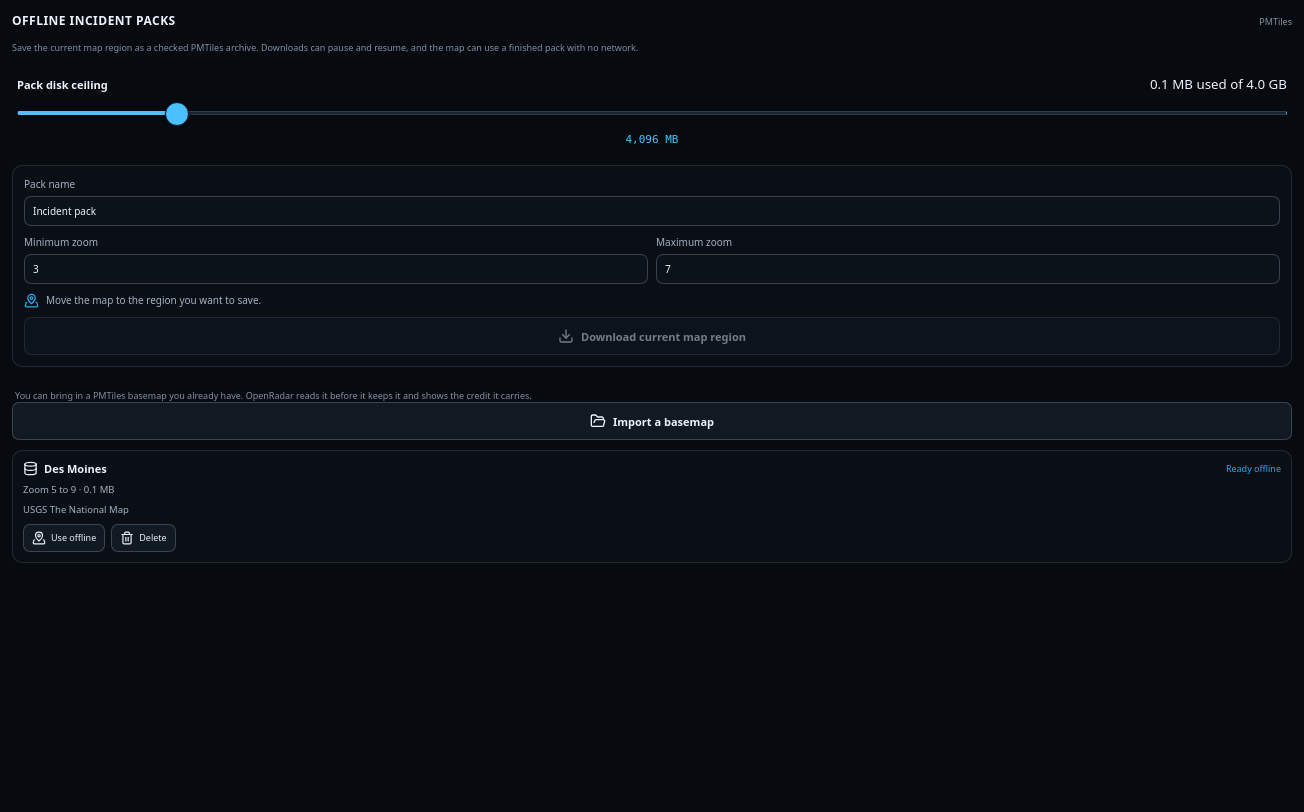
Scenario: a reply that lands after the panel is gone › lets the newer answer win when an older one lands last
Set the slider labelled "Pack disk ceiling" to "8192". click: (331, 113)
box: [17,101,1287,125]
Wait 400 ms
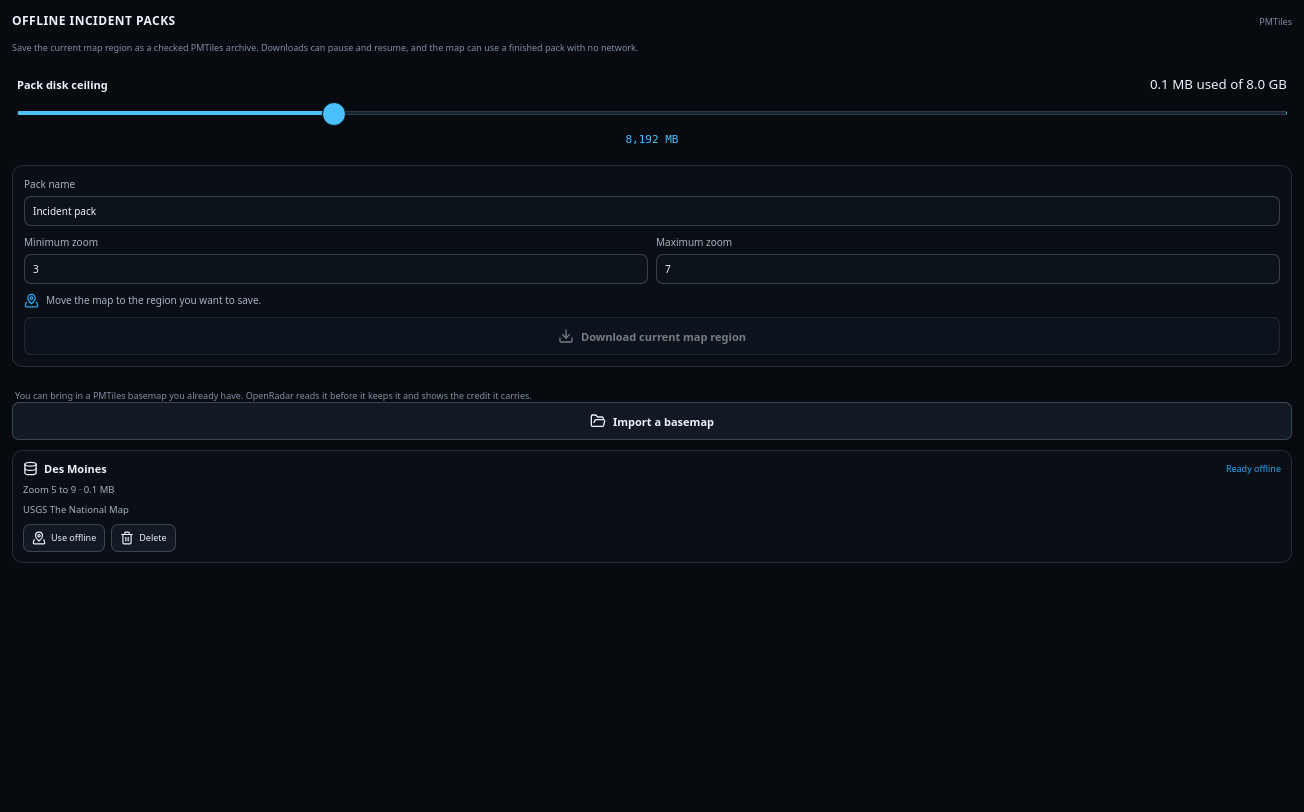
Set the slider labelled "Pack disk ceiling" to "16384". click: (647, 113)
box: [17,101,1287,125]
Wait 400 ms
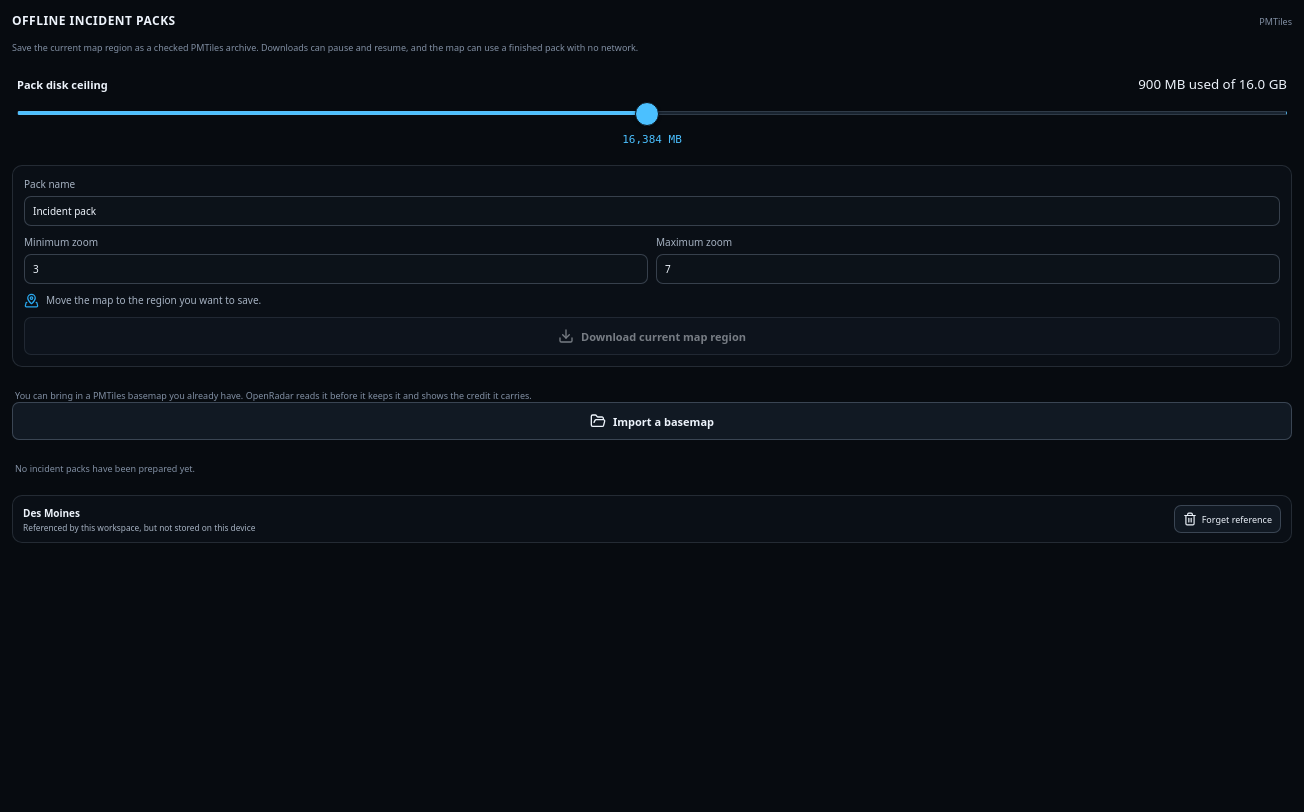
expect the text "900 MB used of 16.0 GB" is shown: met, box [1138,75,1287,93]
